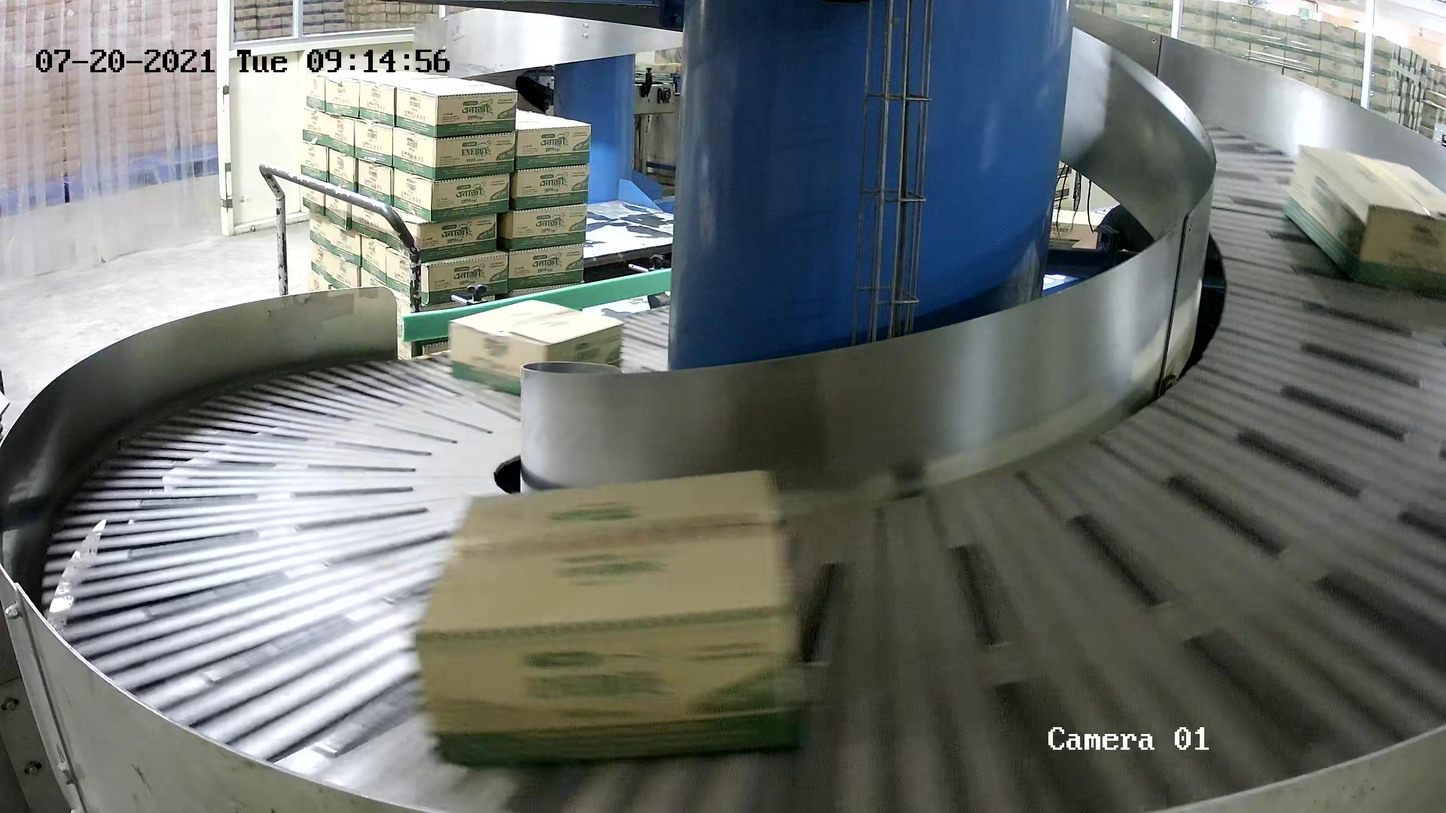Box: (409, 467, 799, 765), (1284, 142, 1446, 293), (447, 299, 624, 397)
